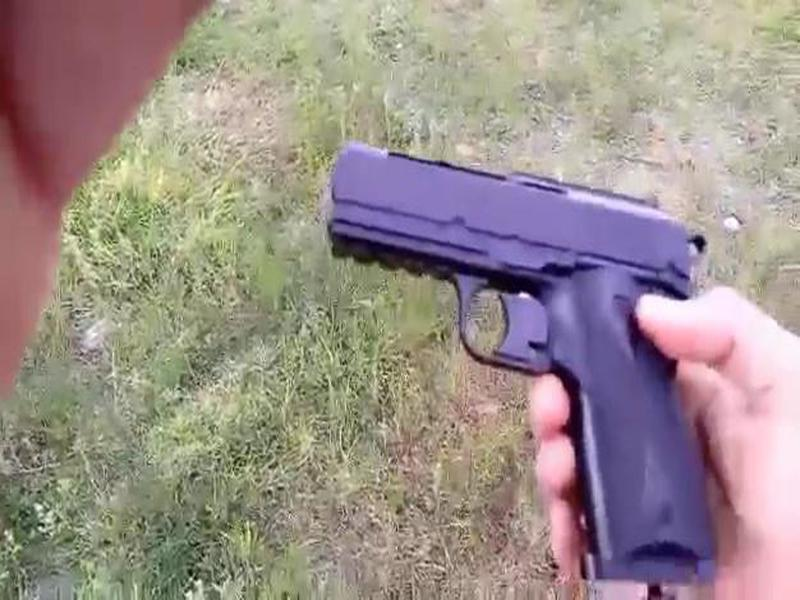Pistola: (308, 126, 752, 584)
